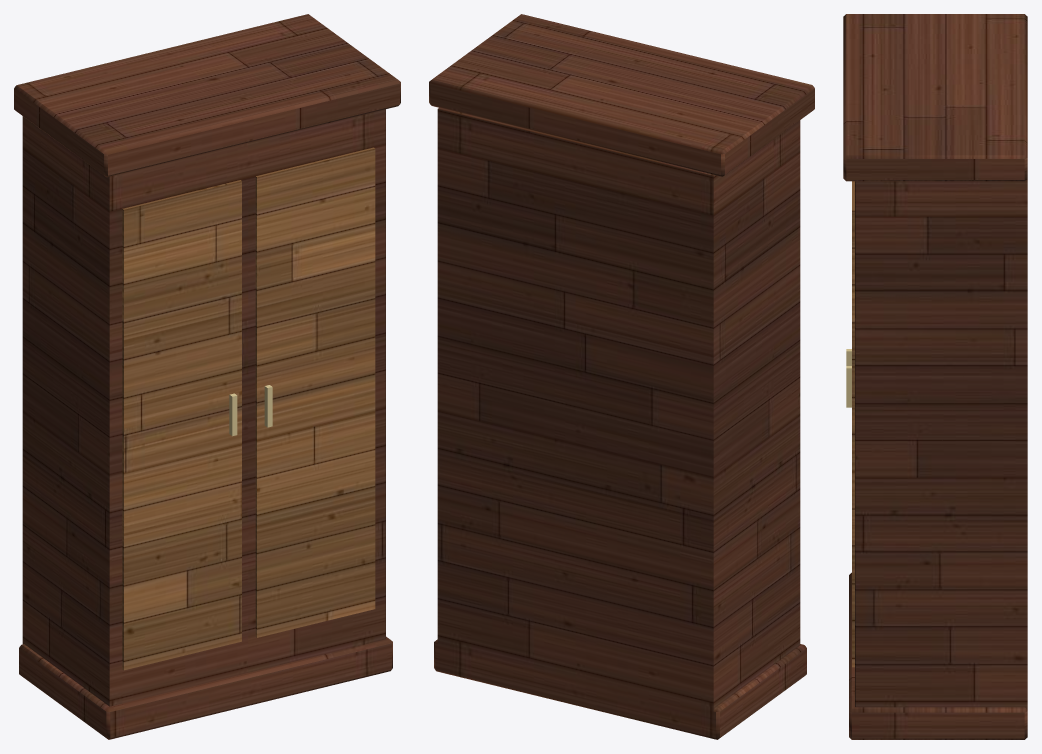
Rendered from wardrobe.glb.
The picture shows the model from 3 angles, left to right: view 1: azimuth 30°, elevation 25°; view 2: azimuth 150°, elevation 25°; view 3: azimuth 270°, elevation 25°; orthographic projection.
Visible parts, largest first — view 1: wardrobe_dkwood, wardrobe_oak, wardrobe_brass; view 2: wardrobe_dkwood; view 3: wardrobe_dkwood, wardrobe_oak, wardrobe_brass.
Boxes of the visible parts, x1=… form: wardrobe_dkwood: x1=14, y1=14, x2=400, y2=739; wardrobe_oak: x1=122, y1=147, x2=375, y2=670; wardrobe_brass: x1=229, y1=385, x2=272, y2=436; wardrobe_dkwood: x1=429, y1=14, x2=814, y2=739; wardrobe_dkwood: x1=843, y1=14, x2=1027, y2=739; wardrobe_oak: x1=852, y1=181, x2=854, y2=667; wardrobe_brass: x1=846, y1=349, x2=851, y2=407.
Bounding box in the file's own units: 1.18 × 2.25 × 0.64.
Materials: 3 (2 with a texture image).
